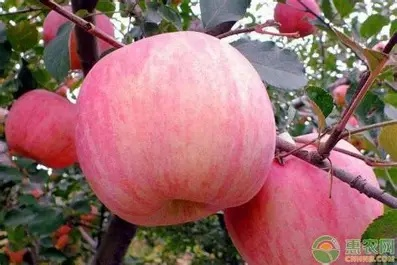ripe_apple: (73, 30, 278, 228), (223, 142, 392, 265), (4, 86, 81, 170), (274, 0, 320, 36)
